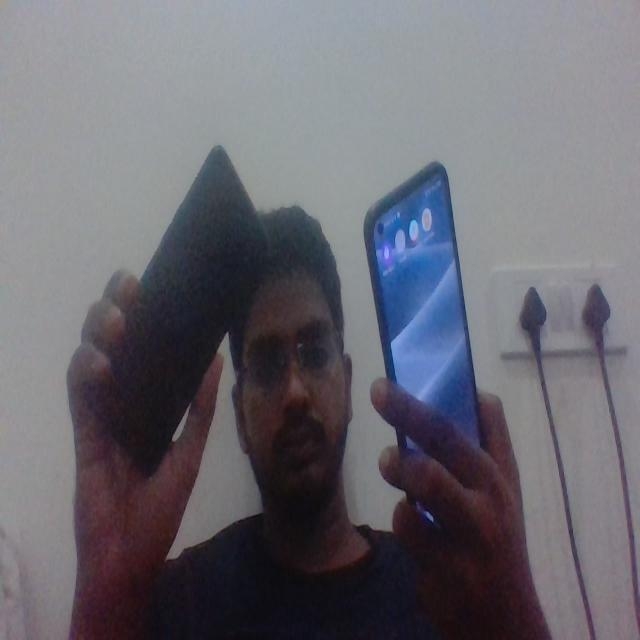Phone: (92, 138, 268, 470), (362, 157, 491, 517)
